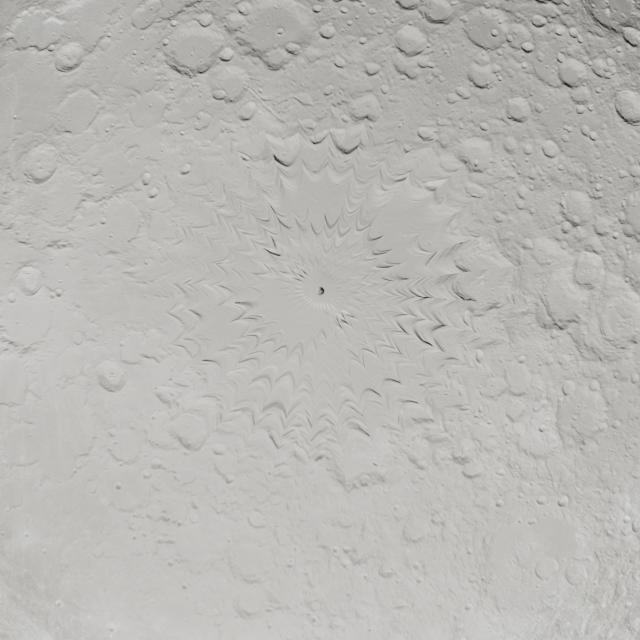crater: (164, 22, 225, 74), (462, 6, 510, 48), (21, 142, 60, 183), (208, 65, 250, 102), (106, 430, 142, 464), (392, 23, 428, 54), (95, 360, 128, 392), (613, 89, 640, 123), (505, 96, 532, 122), (534, 556, 560, 582), (565, 562, 586, 586), (236, 100, 257, 120), (246, 511, 268, 529), (195, 11, 213, 27), (363, 61, 381, 76), (502, 136, 518, 152), (236, 1, 253, 15), (530, 14, 548, 27), (455, 85, 471, 99), (562, 380, 576, 396), (285, 41, 301, 54), (516, 185, 529, 200), (188, 509, 200, 524), (72, 331, 84, 345), (212, 88, 226, 100), (474, 349, 486, 363), (560, 221, 572, 234), (520, 41, 534, 52), (180, 163, 192, 174), (323, 84, 334, 96), (589, 380, 600, 391), (534, 102, 545, 113), (616, 210, 626, 222), (493, 212, 505, 222), (479, 121, 490, 131), (588, 130, 598, 141), (90, 166, 100, 176), (380, 84, 390, 94), (517, 354, 527, 364), (619, 169, 629, 179), (571, 215, 581, 224), (576, 105, 586, 114), (594, 182, 604, 191), (358, 36, 368, 45), (536, 496, 546, 505), (564, 124, 574, 133), (7, 293, 16, 303), (312, 4, 322, 12), (368, 7, 378, 15), (47, 44, 56, 52), (340, 6, 349, 14), (634, 372, 640, 384), (635, 519, 640, 533), (276, 28, 284, 36), (538, 425, 546, 433), (162, 38, 170, 46), (612, 232, 619, 240), (99, 216, 106, 224), (624, 276, 630, 283)
rock: (49, 287, 63, 298), (557, 495, 569, 507), (141, 172, 151, 185), (148, 187, 158, 198), (494, 498, 504, 508), (604, 7, 612, 18), (114, 482, 122, 490), (181, 584, 188, 590), (148, 103, 153, 108)
